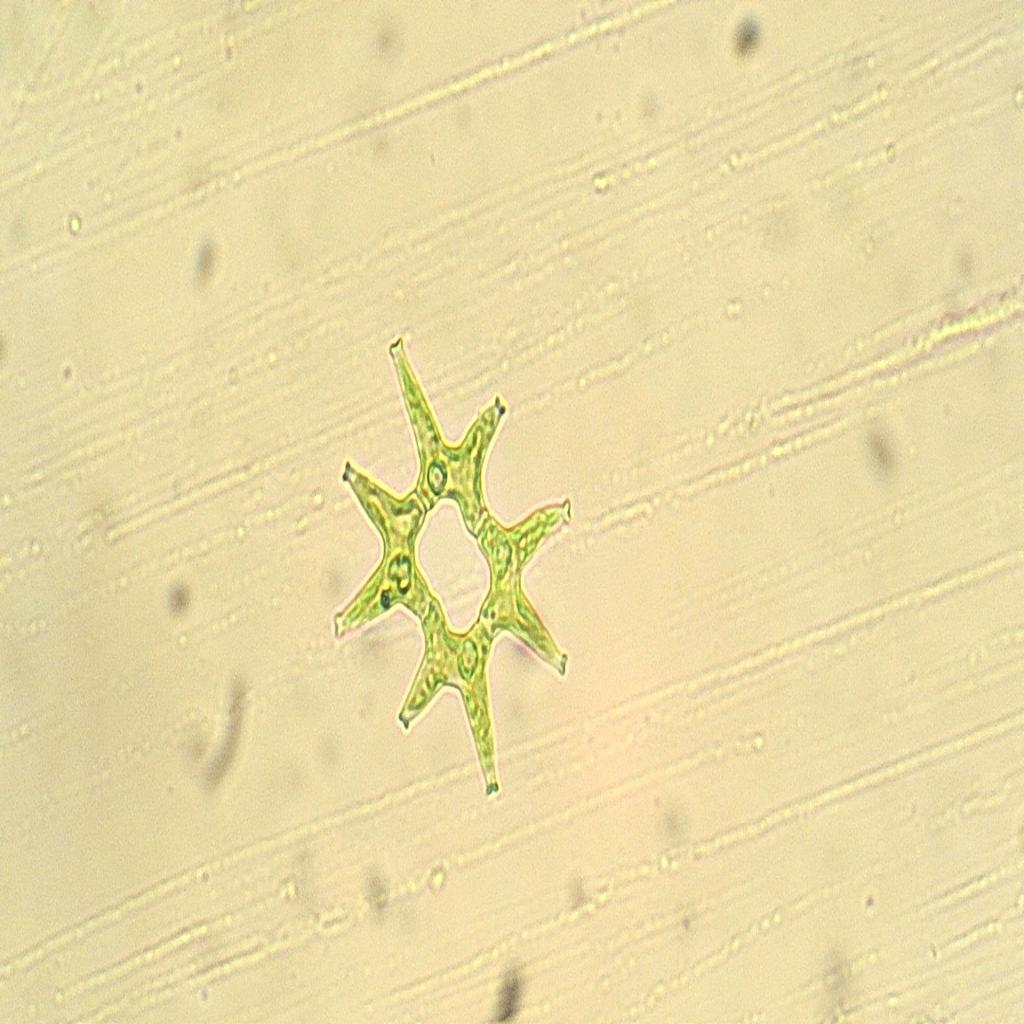Pediastrum_75O: (317, 317, 587, 815)
